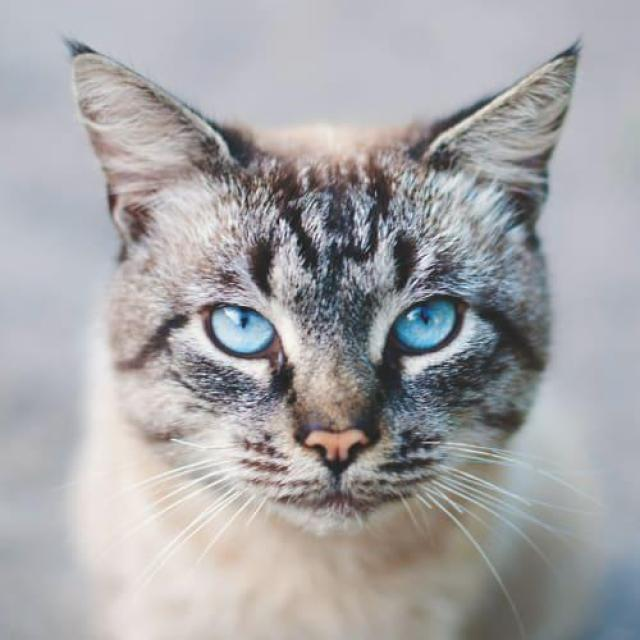Cat: (53, 23, 596, 550)
